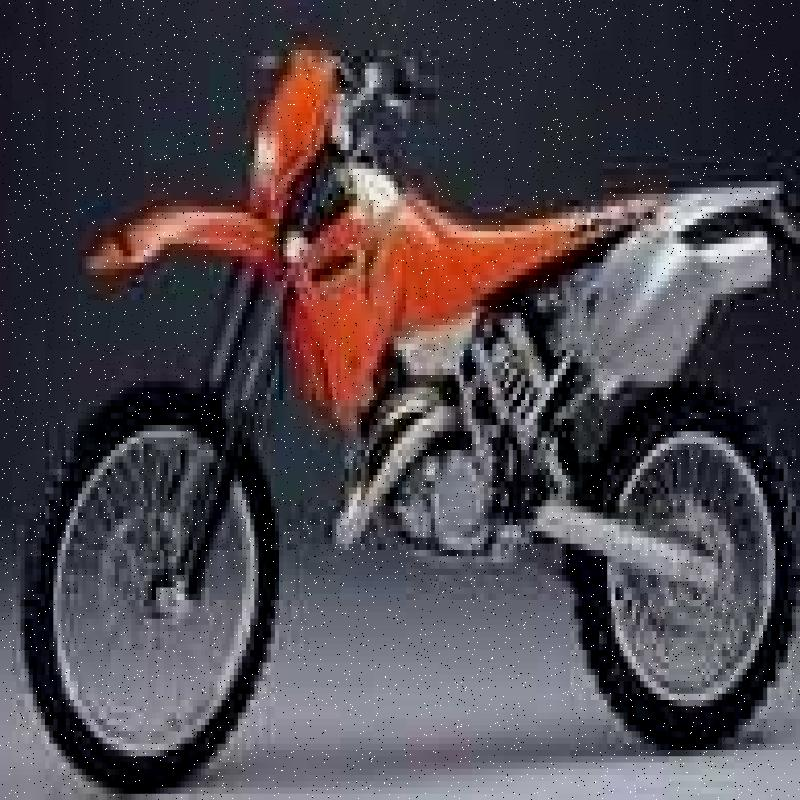bike: (0, 39, 793, 772)
